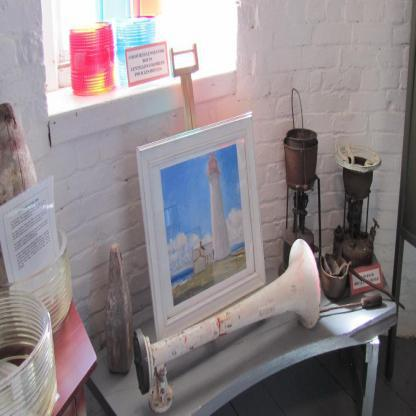Picture-frame: (136, 113, 266, 342)
